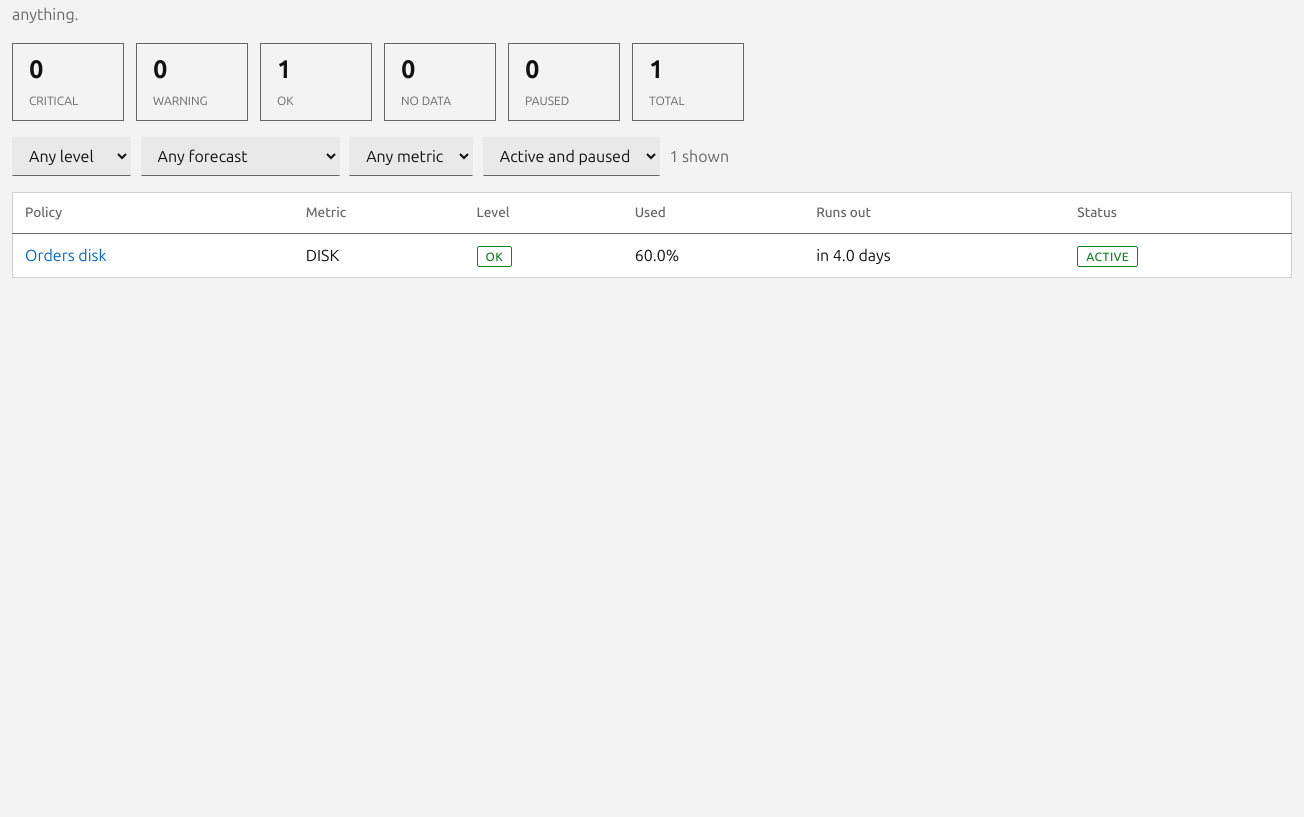
Test: a policy in detail › shows the watch, the latest sample, the trend, the samples with who reported them, and the history
What coordinates should you click on to do the following:
click the button "Orders disk"
I would click on:
 (66, 256)
Its box is [25,244,107,268].
(page scrolled)
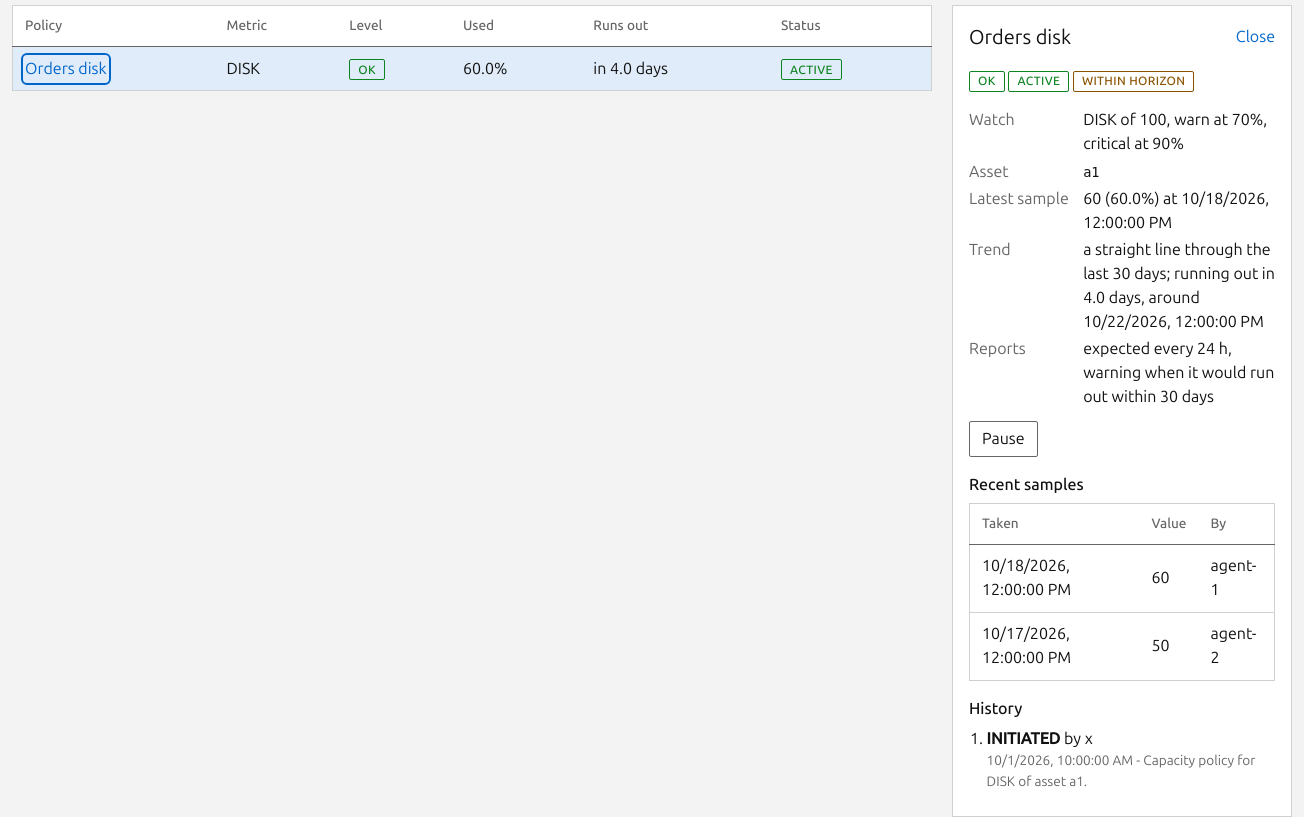
Now the text "DISK of 100, warn at 70%, critical at 90%" is shown, box [1083,108,1275,156]
Now the text "60 (60.0%) at 10/18/2026, 12:00:00 PM" is shown, box [1083,187,1275,235]
Now the text "a straight line through the last 30 days; running out in 4.0 days, around" is shown, box [1083,238,1275,334]
